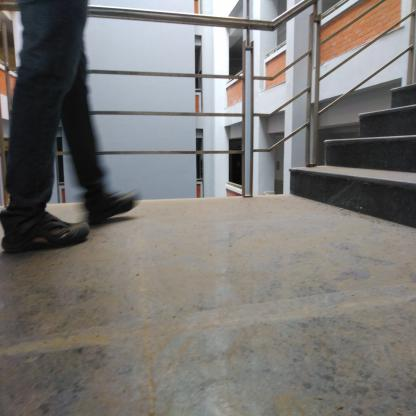stairs: (358, 111, 416, 239)
